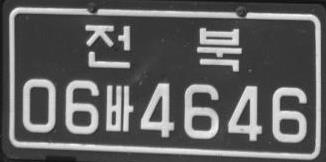0: (22, 75, 56, 133)
4: (141, 81, 175, 138), (228, 84, 262, 141)
6: (183, 81, 220, 139), (271, 85, 307, 143), (65, 78, 99, 135)
바: (105, 83, 133, 132)
전북_D: (84, 23, 241, 71)
